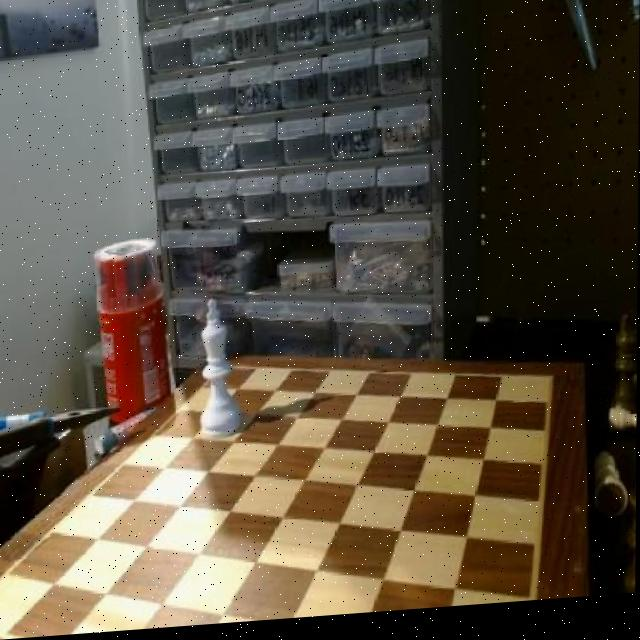white-bishop: (193, 301, 248, 448)
